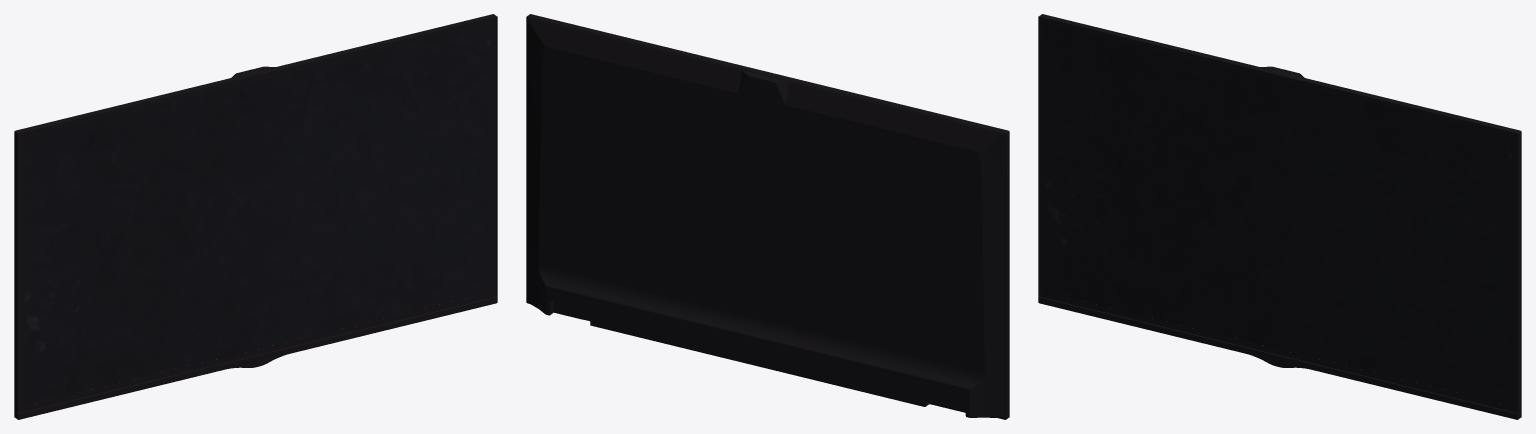
Rendered from Televizor_01.gltf.
The picture shows the model from 3 angles, left to right: view 1: azimuth 30°, elevation 25°; view 2: azimuth 150°, elevation 25°; view 3: azimuth 330°, elevation 25°; orthographic projection.
Parts seen in each view (by area): view 1: Televizor.002, Televizor.001; view 2: Televizor.001; view 3: Televizor.002, Televizor.001.
Boxes of the visible parts, <box> form: Televizor.002: <box>24,24,490,405</box>; Televizor.001: <box>14,14,497,419</box>; Televizor.001: <box>526,14,1009,419</box>; Televizor.002: <box>1045,24,1511,405</box>; Televizor.001: <box>1038,14,1521,419</box>.
Size of the model in its own units: 176 by 103 by 7.97.
2 materials, 2 textured.
